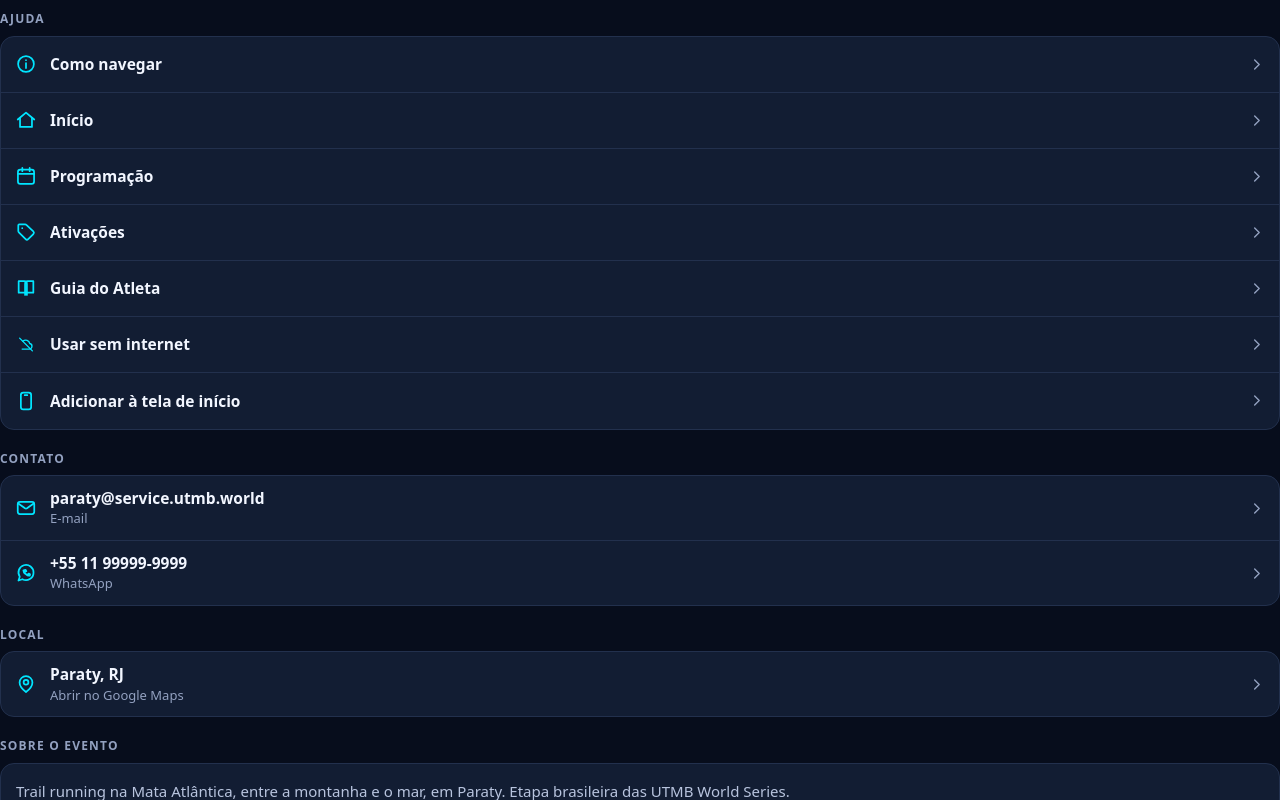
Test case: tela Info › explica como instalar
(page scrolled)
Click the button "Adicionar à tela de início": coordinates (145, 401) [1, 373, 1279, 429]
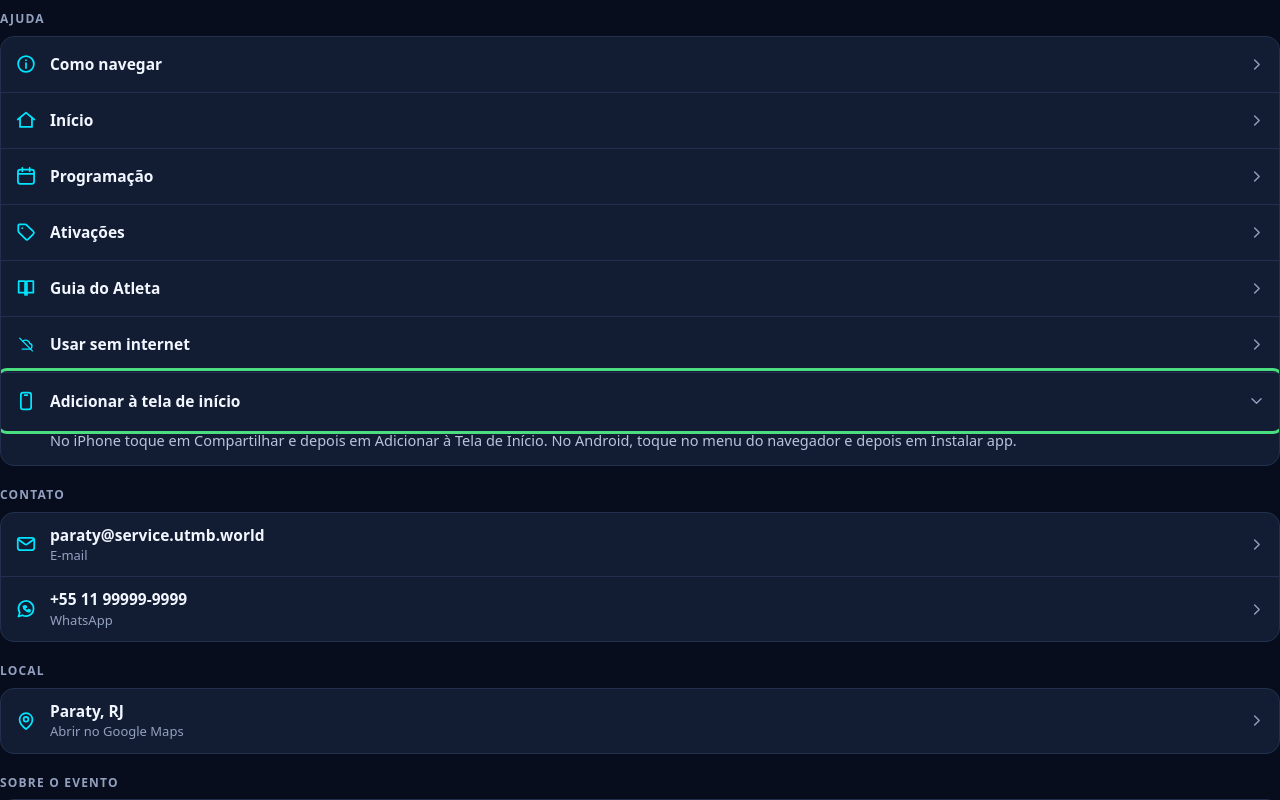
Expected: the text "Adicionar à Tela de Início." is shown, [50, 430, 1017, 450]
